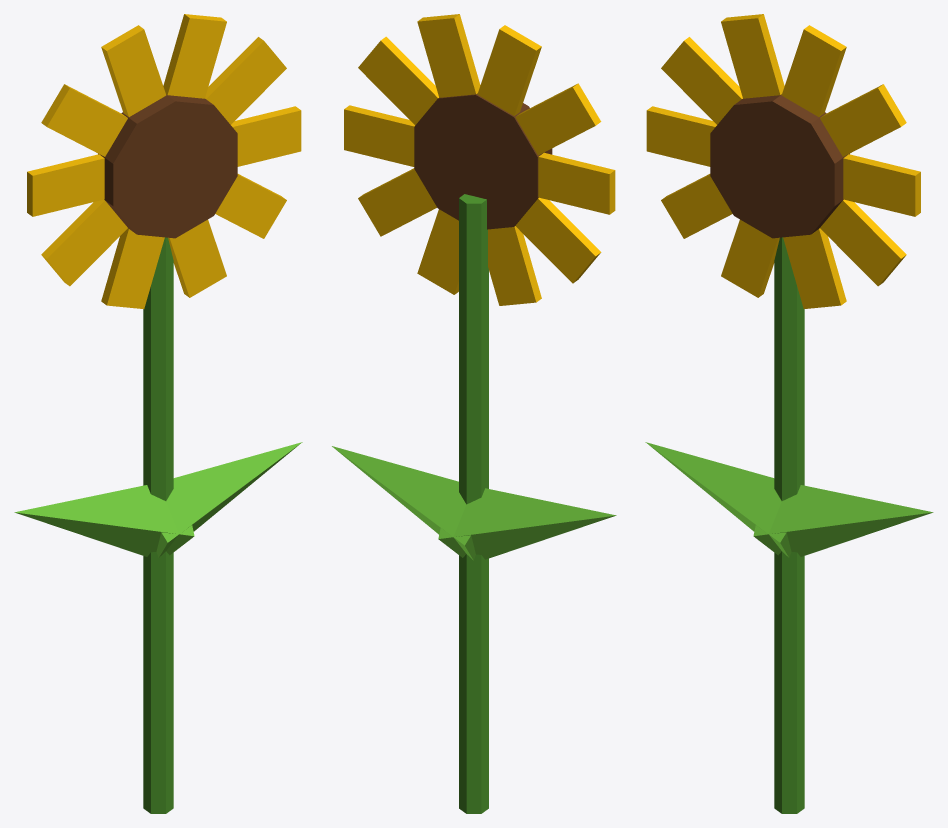
Rendered from sunflower.glb.
3 views of the same model, side by side, from view 1: azimuth 30°, elevation 25°; view 2: azimuth 150°, elevation 25°; view 3: azimuth 330°, elevation 25° (orthographic).
Visible parts, largest first — view 1: Sunflower; view 2: Sunflower; view 3: Sunflower.
Part boxes in pixels (left/top/right/bottom): Sunflower: left=14, top=14, right=302, bottom=813; Sunflower: left=332, top=14, right=616, bottom=813; Sunflower: left=645, top=14, right=933, bottom=813.
Size of the model in its own units: 0.8818 by 2.31 by 0.24.
